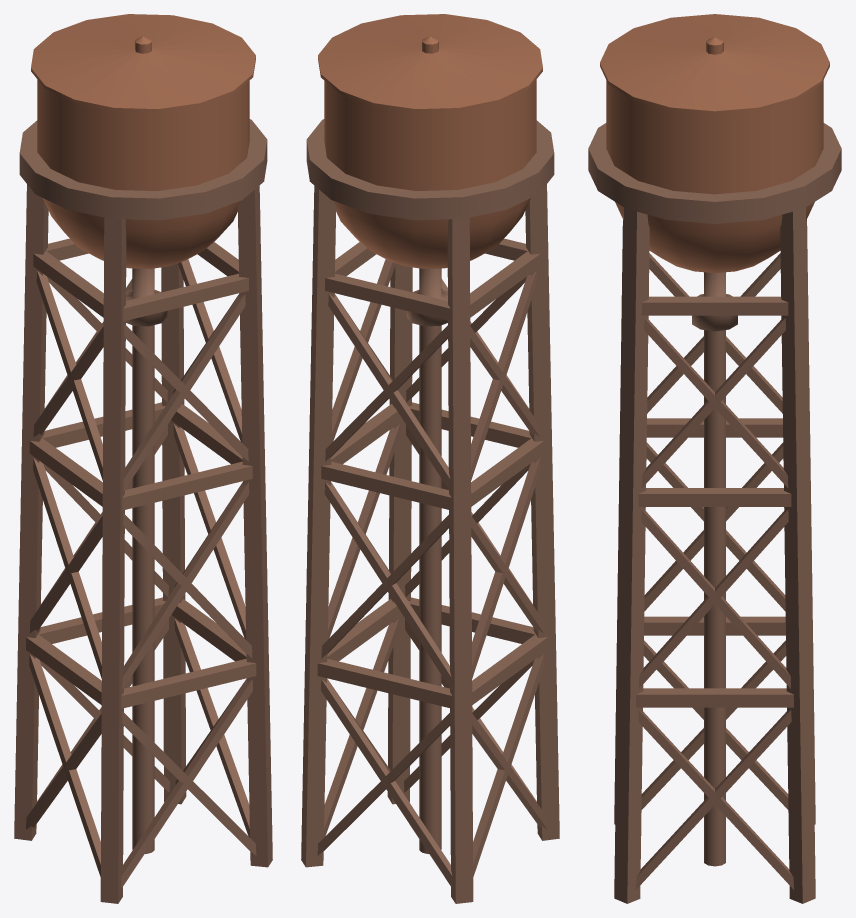
Rendered from camp-north-end-water-tower.glb.
3 renders of one model, left to right at view 1: azimuth 30°, elevation 25°; view 2: azimuth 150°, elevation 25°; view 3: azimuth 270°, elevation 25°, orthographic.
Parts seen in each view (by area): view 1: Camp North End water tower; view 2: Camp North End water tower; view 3: Camp North End water tower.
Boxes of the visible parts, x1,y1,x2,y2 form: Camp North End water tower: (14, 14, 272, 903); Camp North End water tower: (301, 14, 559, 903); Camp North End water tower: (588, 14, 841, 903).
Size of the model in its own units: 9.9 by 35.56 by 9.9.
